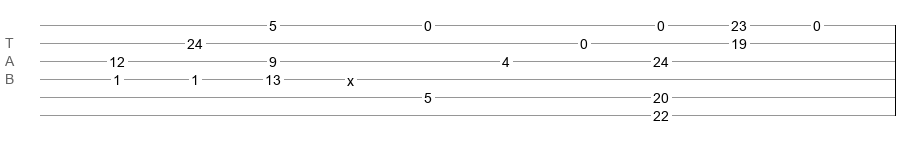0: (424, 18, 432, 28), (580, 36, 588, 46), (657, 18, 665, 28), (813, 18, 821, 28)
1: (113, 72, 121, 82), (191, 72, 199, 82)
12: (109, 54, 125, 64)
13: (265, 72, 281, 82)
19: (731, 36, 747, 46)
20: (653, 90, 669, 100)
22: (653, 108, 669, 118)
23: (731, 18, 747, 28)
24: (187, 36, 203, 46), (653, 54, 669, 64)
4: (502, 54, 510, 64)
5: (269, 18, 277, 28), (424, 90, 432, 100)
9: (269, 54, 277, 64)
x: (347, 73, 354, 81)
